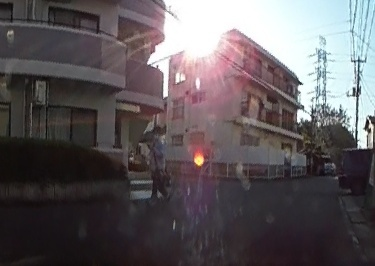person: (148, 125, 170, 204)
